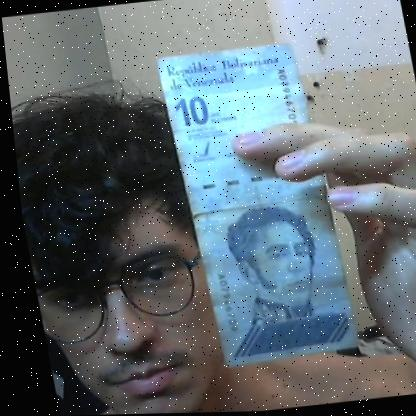vef_front: (153, 42, 354, 371)
